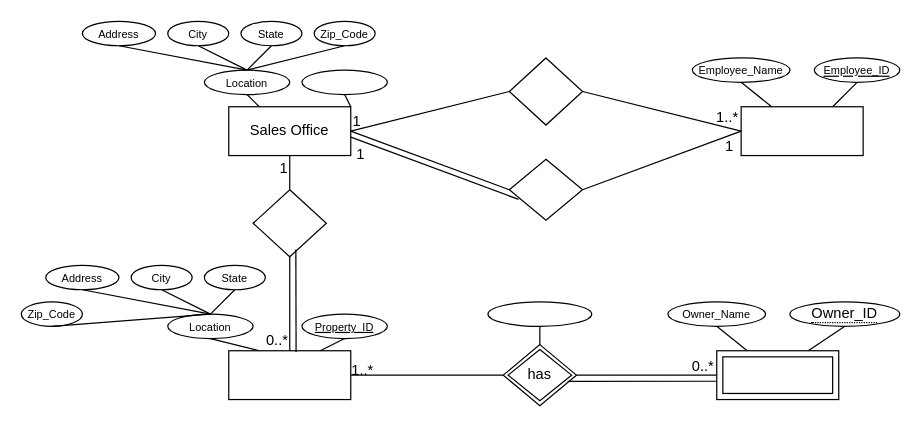
The diagram is 921 pixels wide and 427 high, and some of its shapes have lost their labels. The box of each missing label's shape, as (x1, y1, x2, y2) in pixels:
assigned: (508, 57, 583, 125)
Employee: (740, 106, 863, 156)
listed with: (252, 188, 326, 257)
Manage: (508, 158, 583, 220)
Office_Number: (301, 69, 387, 95)
Owner: (716, 350, 839, 400)
percent of owned: (487, 301, 592, 326)
Property: (228, 350, 351, 400)
